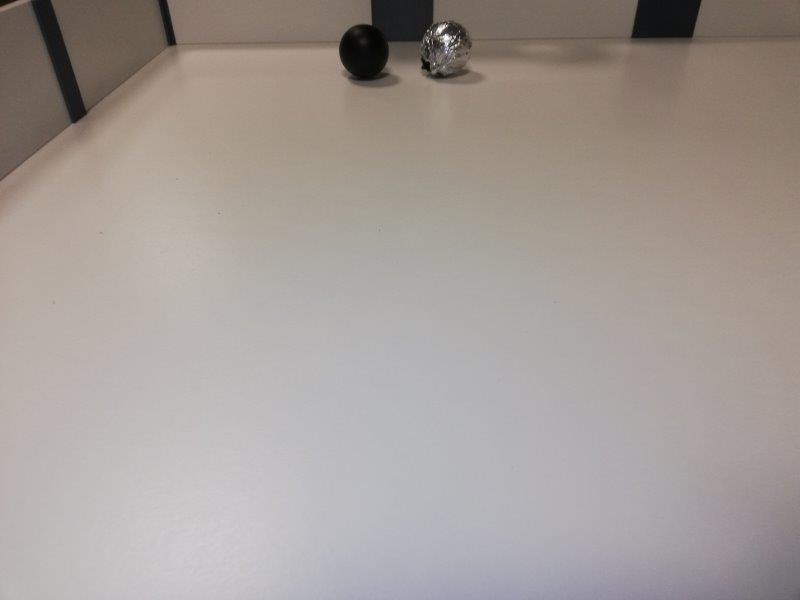bianca: (420, 19, 472, 79)
nera: (336, 25, 390, 79)
